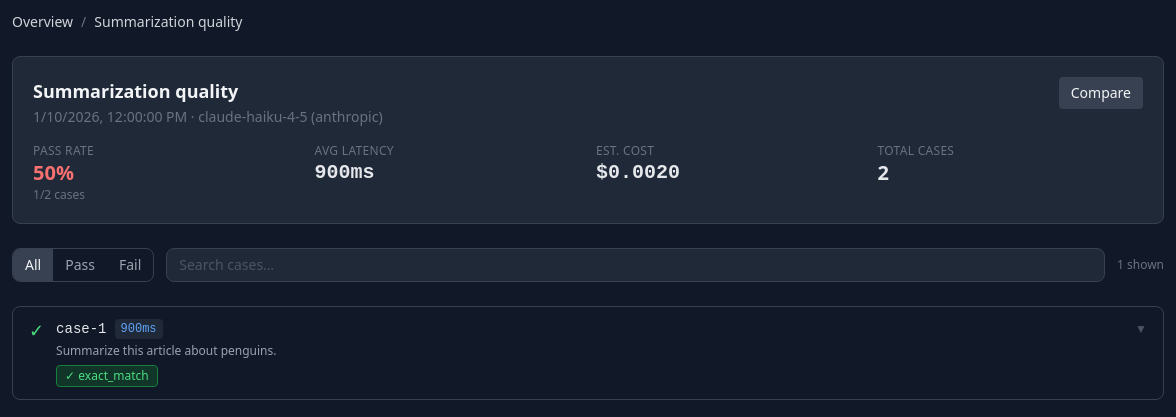
it: RunDetail page › shows an empty state when the filters exclude every case
Click the button "fail": (130, 265) [107, 249, 153, 281]
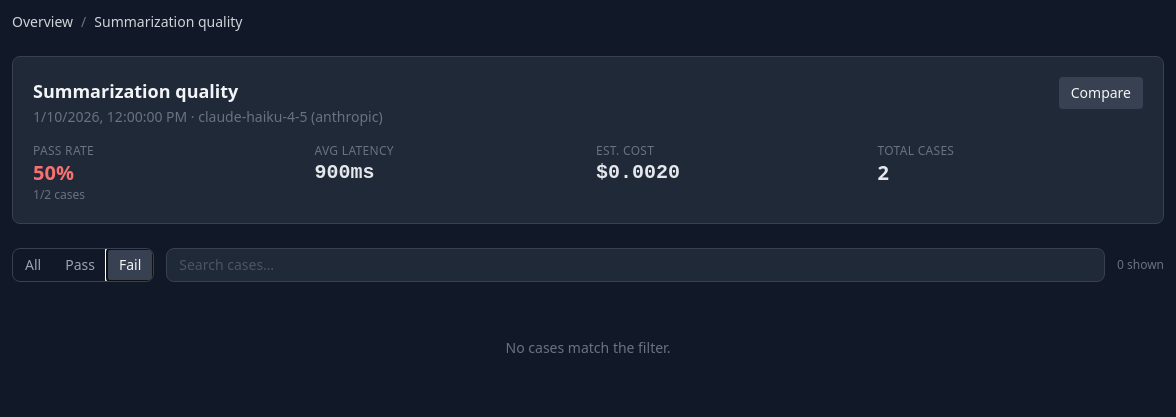
Result: the text "No cases match the filter." is shown at [506, 338, 670, 357]
